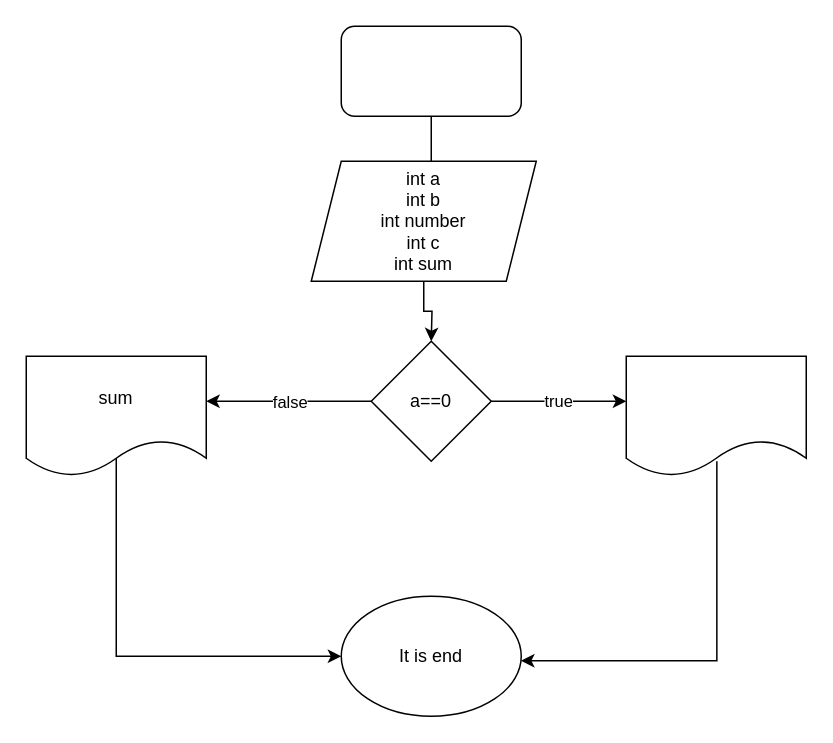
Image size: 833x743. Some labels were removed from this diagram. Here are the shapes that lost their labels. From the top down, the centre of each, then its label:
At (x=430, y=70): "start".
At (x=715, y=415): "1ci reqem 0 ola bilmez".
